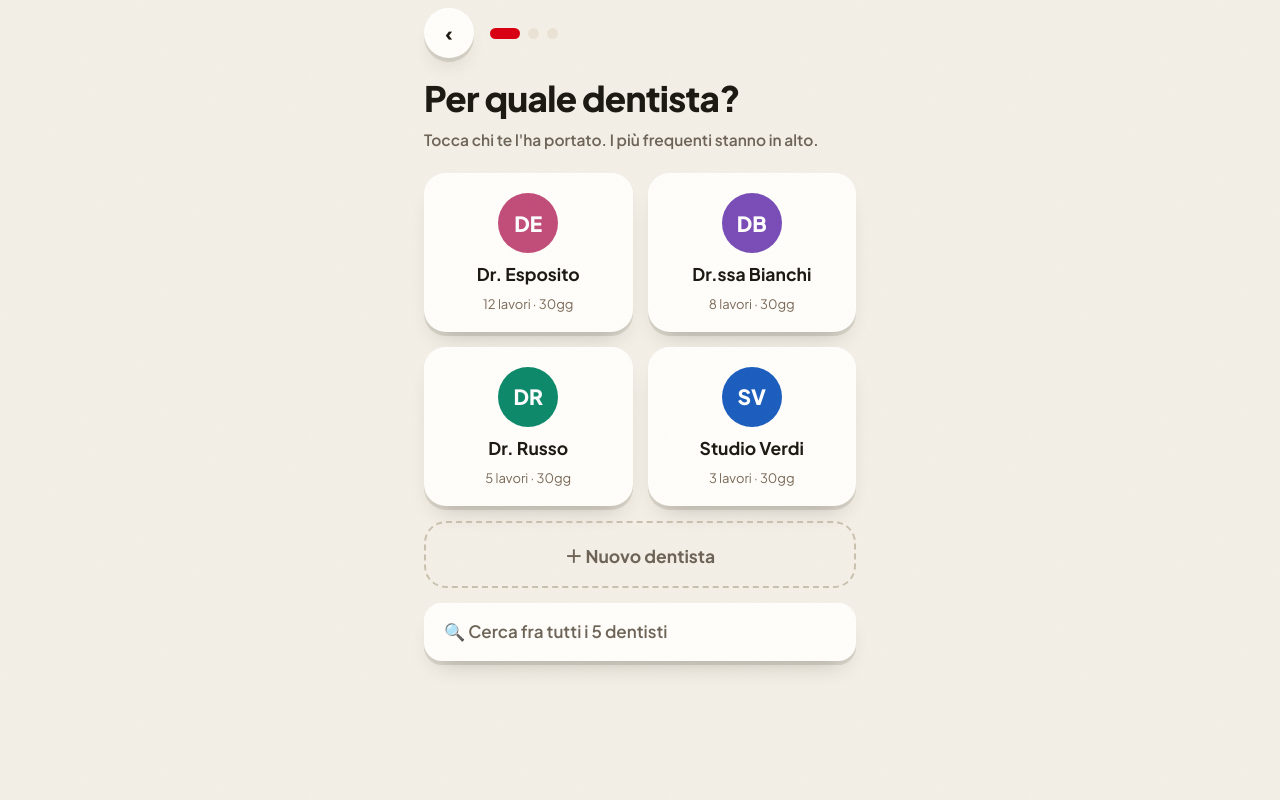
Scenario: WizardNuovoLavoro — wiring PassoTipo (Task 10) › al Passo 2 mostra i tile dai topTipi (PassoTipo, non più il segnaposto)
The image size is (1280, 800).
Click the button "DE Dr. Esposito 12 lavori · 30gg" at point(528, 252), box [424,173,632,332]
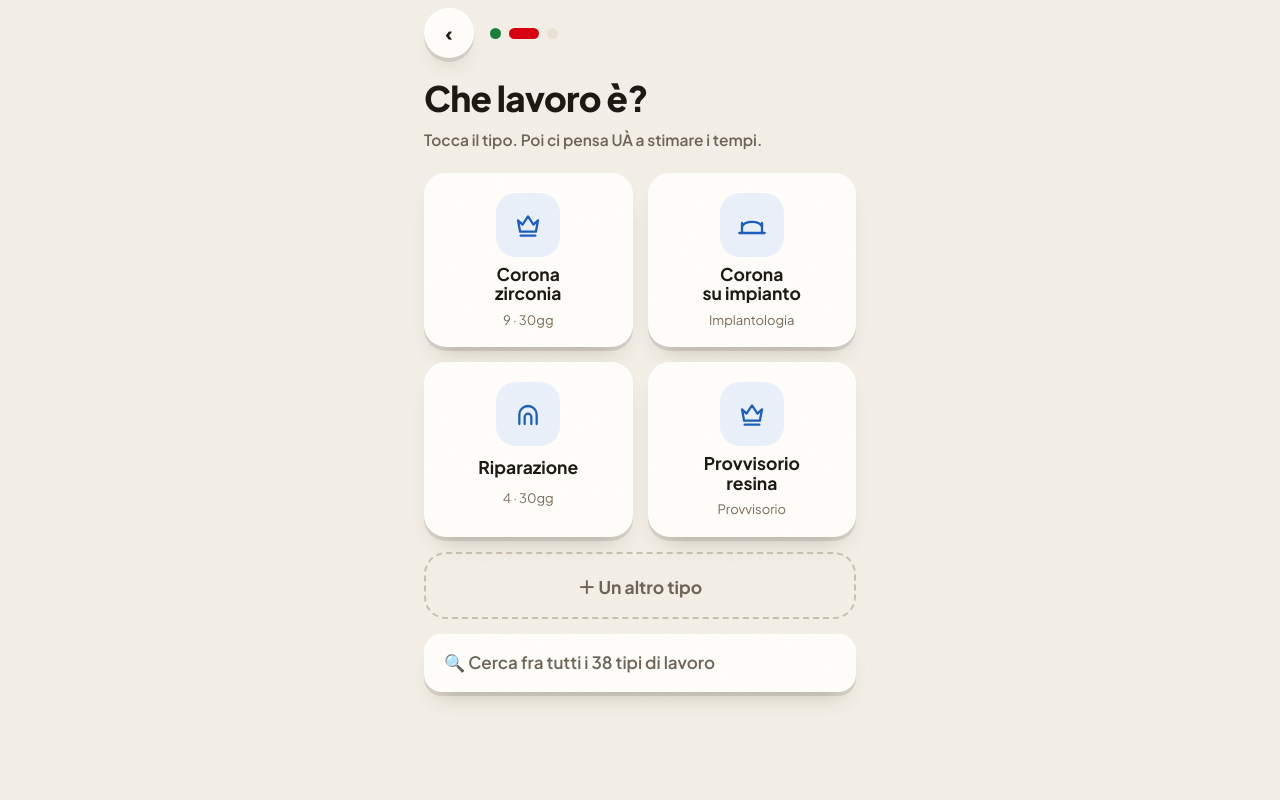
Now the heading "Che lavoro è?" is shown, box [424,76,648,120]
Now the button "Corona zirconia 9 · 30gg" is shown, box [424,173,632,347]
Now the button "＋ Un altro tipo" is shown, box [424,552,856,619]
